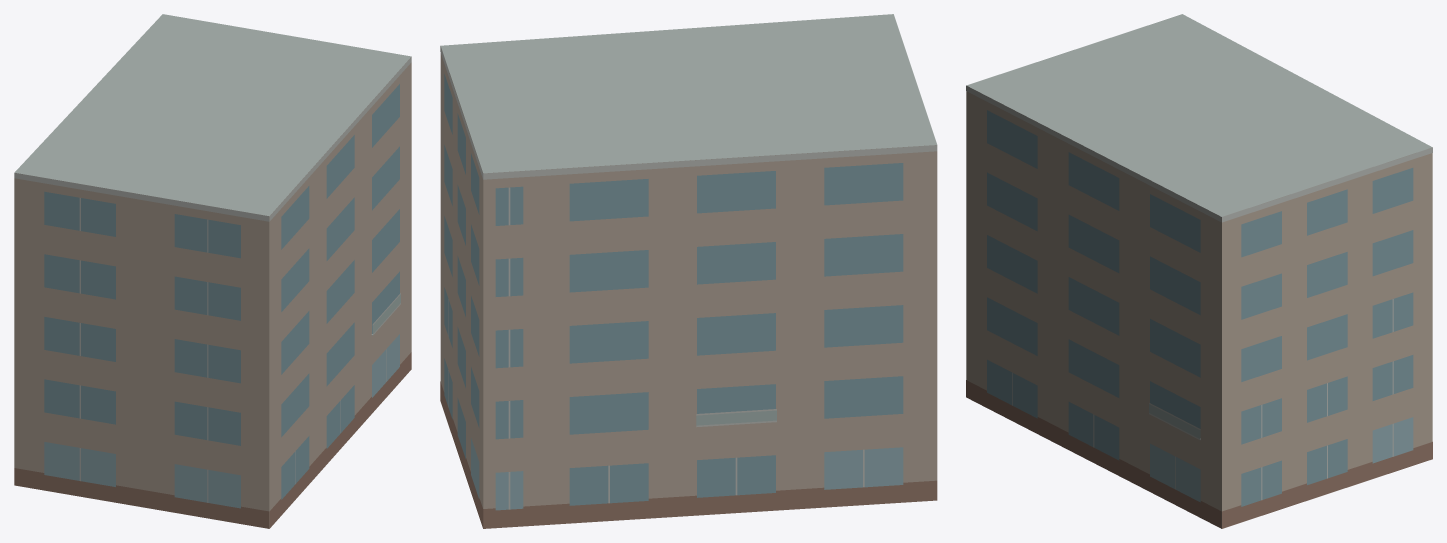
Rendered from survey-upis-32839554.glb.
3 views of the same model, side by side, from view 1: azimuth 30°, elevation 25°; view 2: azimuth 150°, elevation 25°; view 3: azimuth 270°, elevation 25° (orthographic). The views are drawn at different scales.
Parts seen in each view (by area): view 1: survey-upis-32839554.tmp; view 2: survey-upis-32839554.tmp; view 3: survey-upis-32839554.tmp.
Part boxes in pixels (<box>): survey-upis-32839554.tmp: <box>14,14,411,528</box>; survey-upis-32839554.tmp: <box>440,14,937,528</box>; survey-upis-32839554.tmp: <box>966,14,1432,528</box>.
Bounding box in the file's own units: 19.13 × 13.7 × 18.58.
